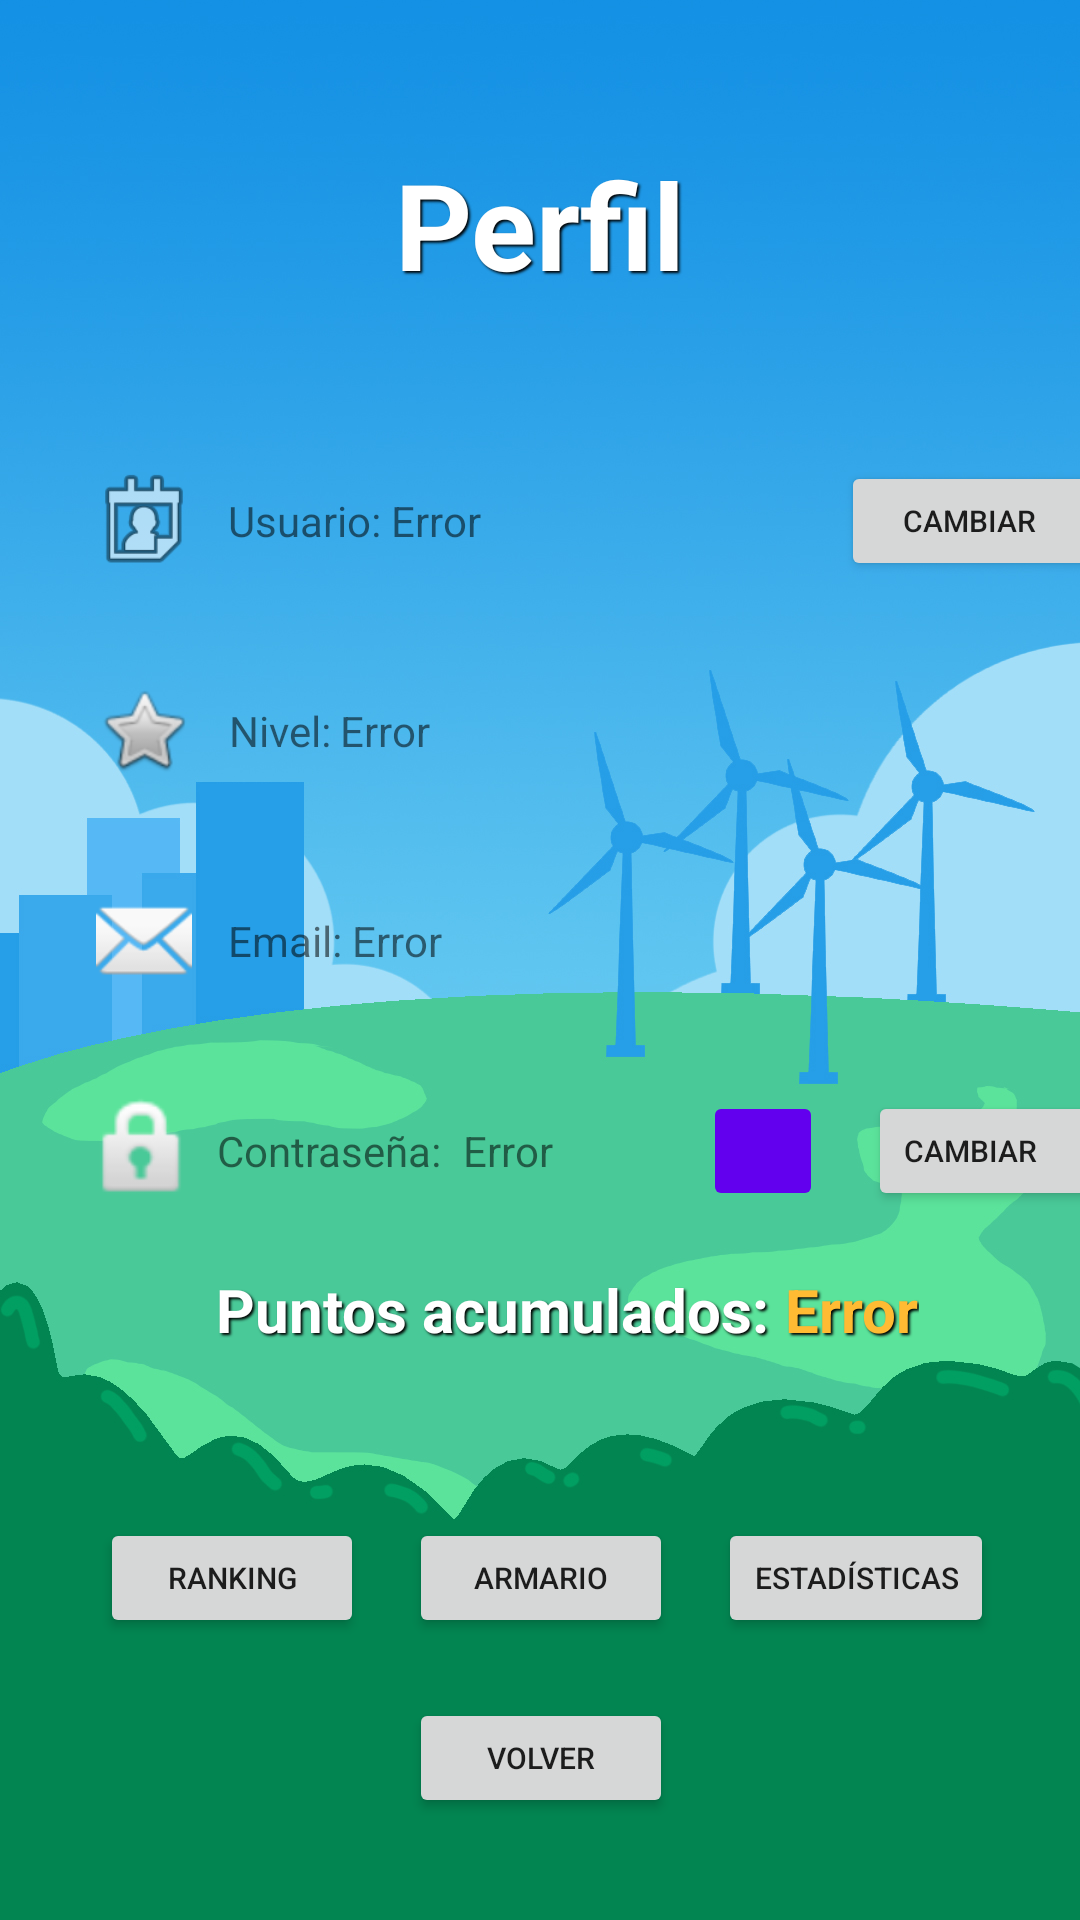

Screen size 1080px x 1920px. Icon name, then its center in pixels as (x=x, y=y):
lock idle: (x=144, y=1150)
star: (x=144, y=741)
